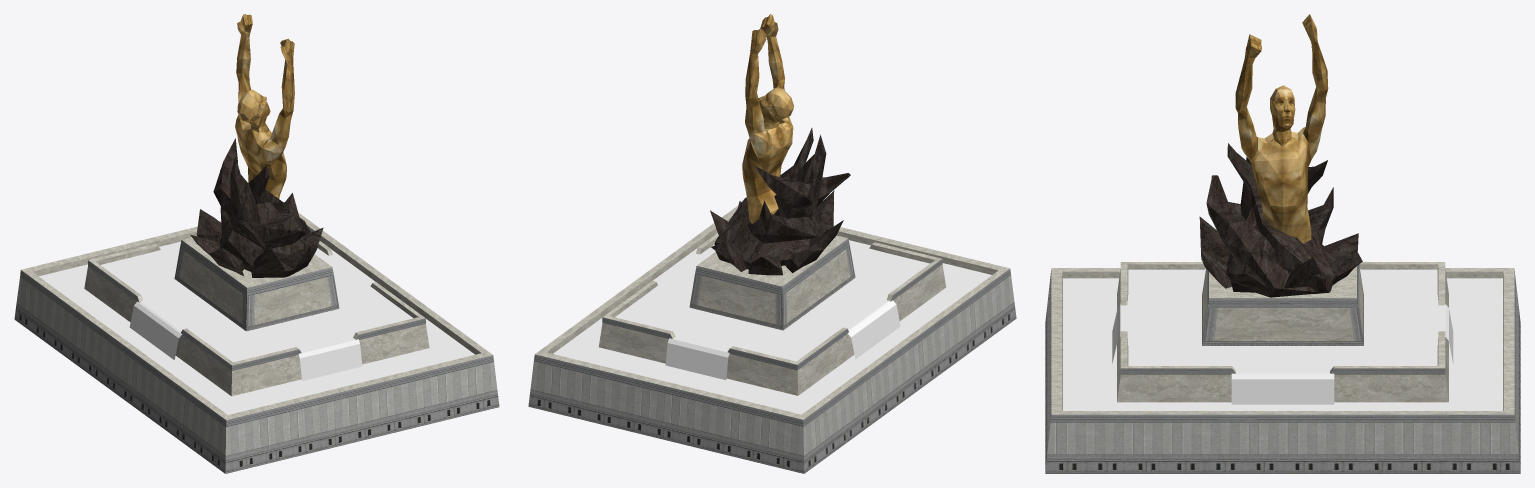
The model's file is thm_corl_fountain_statue_heroic_s01_l0.fbx.
The picture shows the model from 3 angles, left to right: view 1: azimuth 30°, elevation 25°; view 2: azimuth 150°, elevation 25°; view 3: azimuth 270°, elevation 25°; orthographic projection. The views are drawn at different scales.
Visible parts, largest first — view 1: mesh_node; view 2: mesh_node; view 3: mesh_node.
Boxes of the visible parts, bbox=[...] form: mesh_node: bbox=[14, 14, 499, 473]; mesh_node: bbox=[528, 14, 1016, 473]; mesh_node: bbox=[1045, 14, 1520, 473].
Size of the model in its own units: 6.16 by 7.31 by 8.21.
